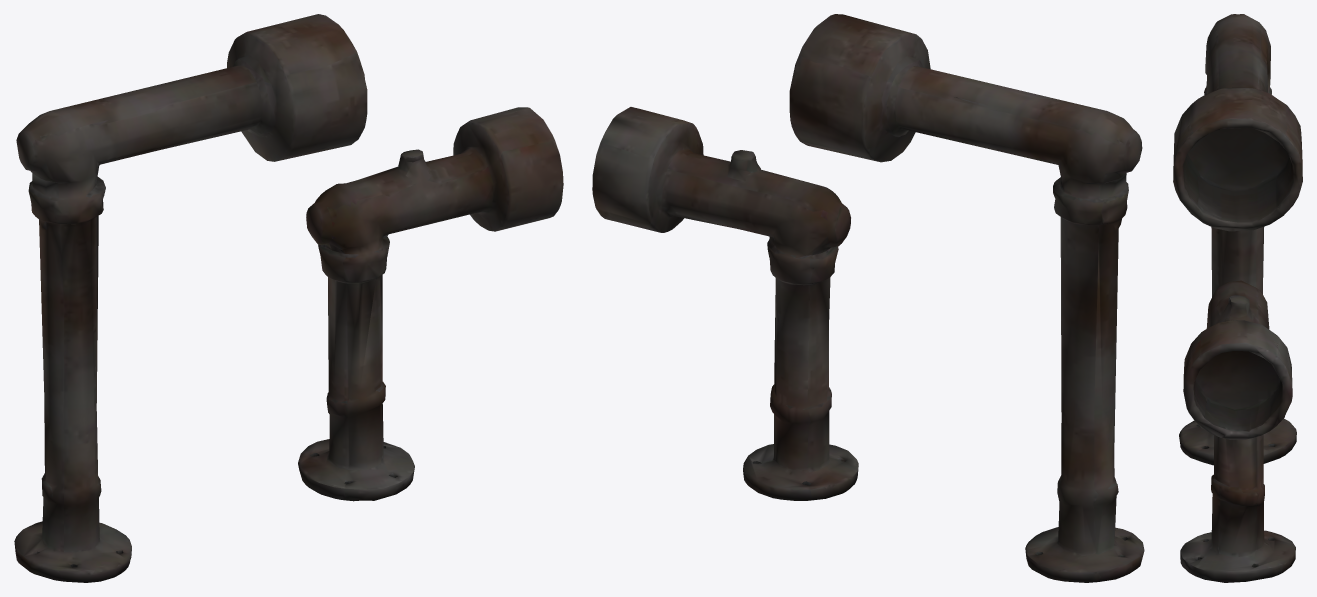
File: weathered-iron-drainpipe-v001.glb
3 renders of one model, left to right at view 1: azimuth 30°, elevation 25°; view 2: azimuth 150°, elevation 25°; view 3: azimuth 270°, elevation 25°, orthographic. The views are drawn at different scales.
Parts seen in each view (by area): view 1: weathered-iron-drainpipe; view 2: weathered-iron-drainpipe; view 3: weathered-iron-drainpipe.
Part boxes in pixels (x1,y1,x2,y2): weathered-iron-drainpipe: [14, 14, 563, 582]; weathered-iron-drainpipe: [592, 14, 1144, 582]; weathered-iron-drainpipe: [1173, 14, 1302, 582].
Size of the model in its own units: 3.28 by 2.91 by 0.7663.
1 material, 1 textured.
